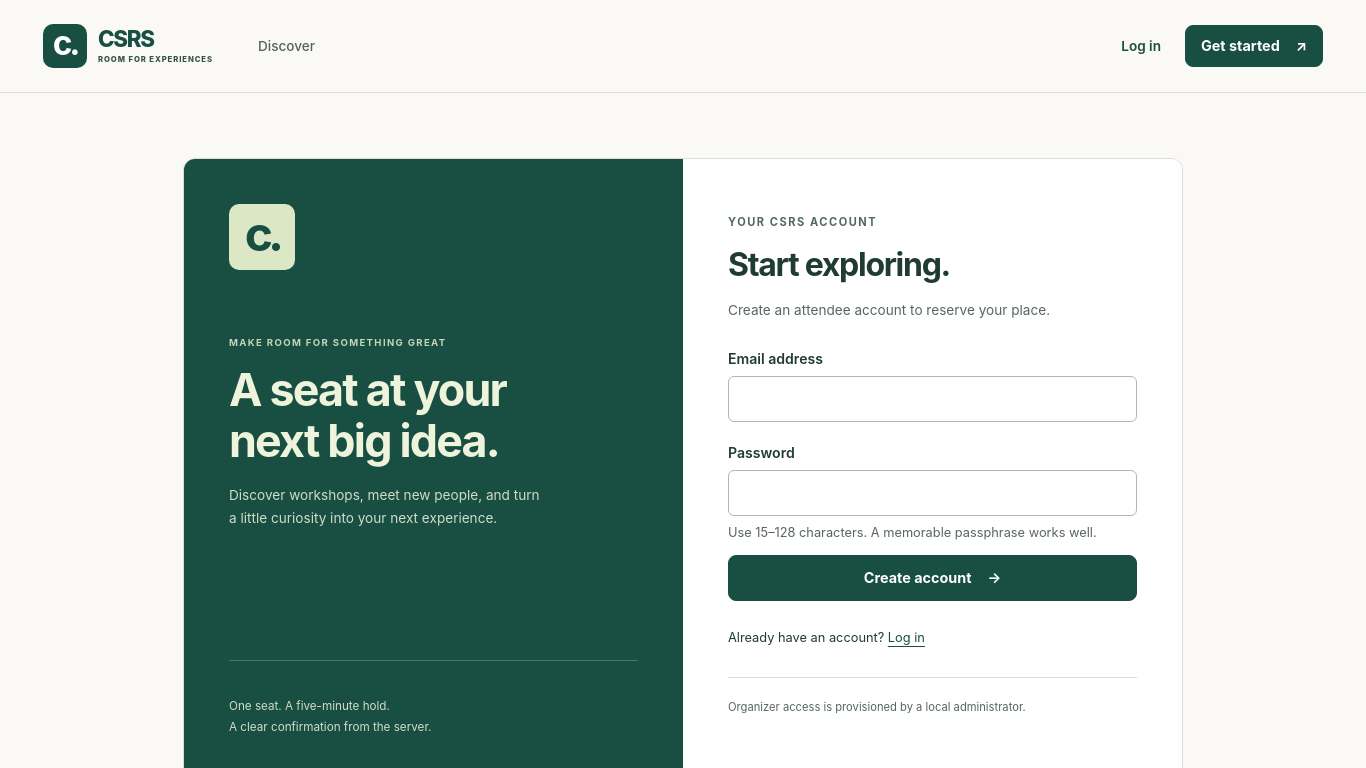
session and authentication interaction › registers without pretending the account is logged in
Type "attendee@example.com" into the field labelled "Email address".
click(932, 399); type("attendee@example.com")  # box [728,376,1137,422]
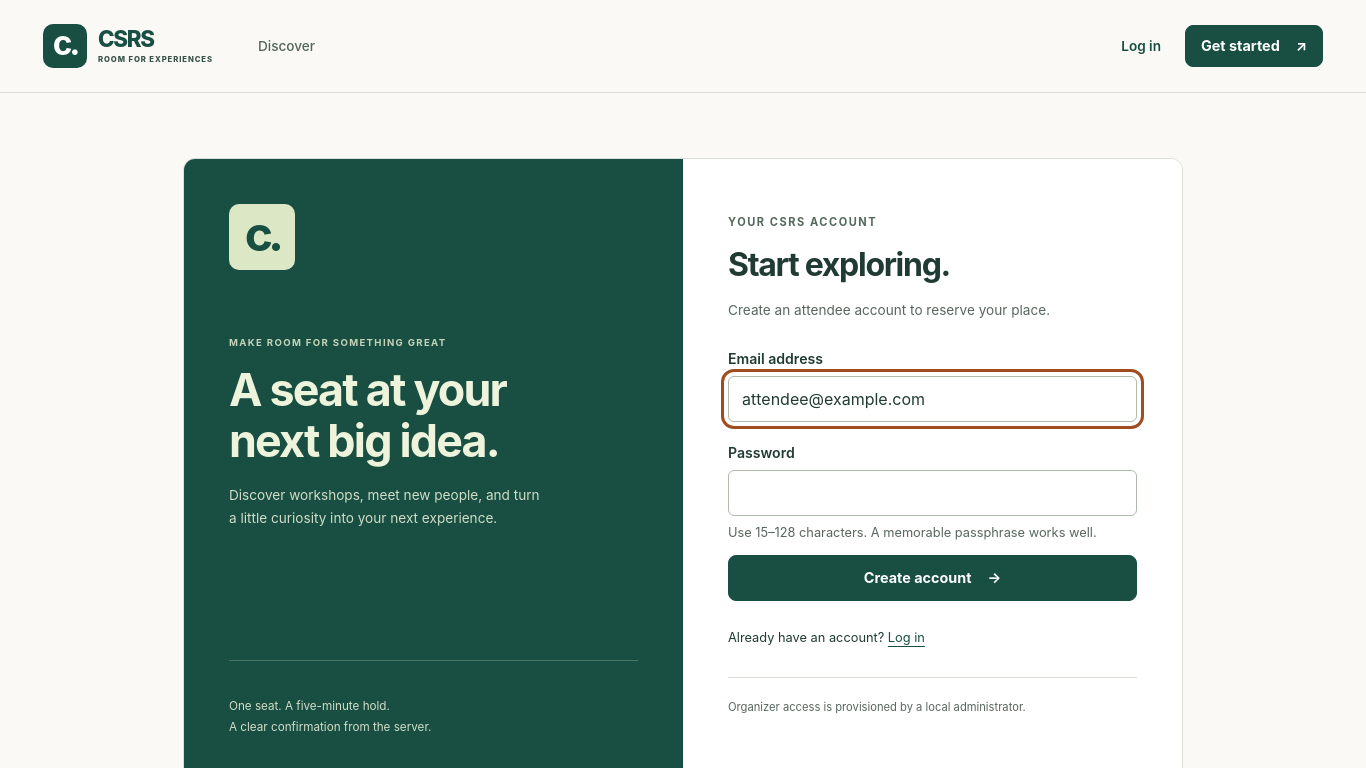
Type "a memorable password phrase" into the password field labelled "Password".
click(932, 493); type("a memorable password phrase")  # box [728,470,1137,516]
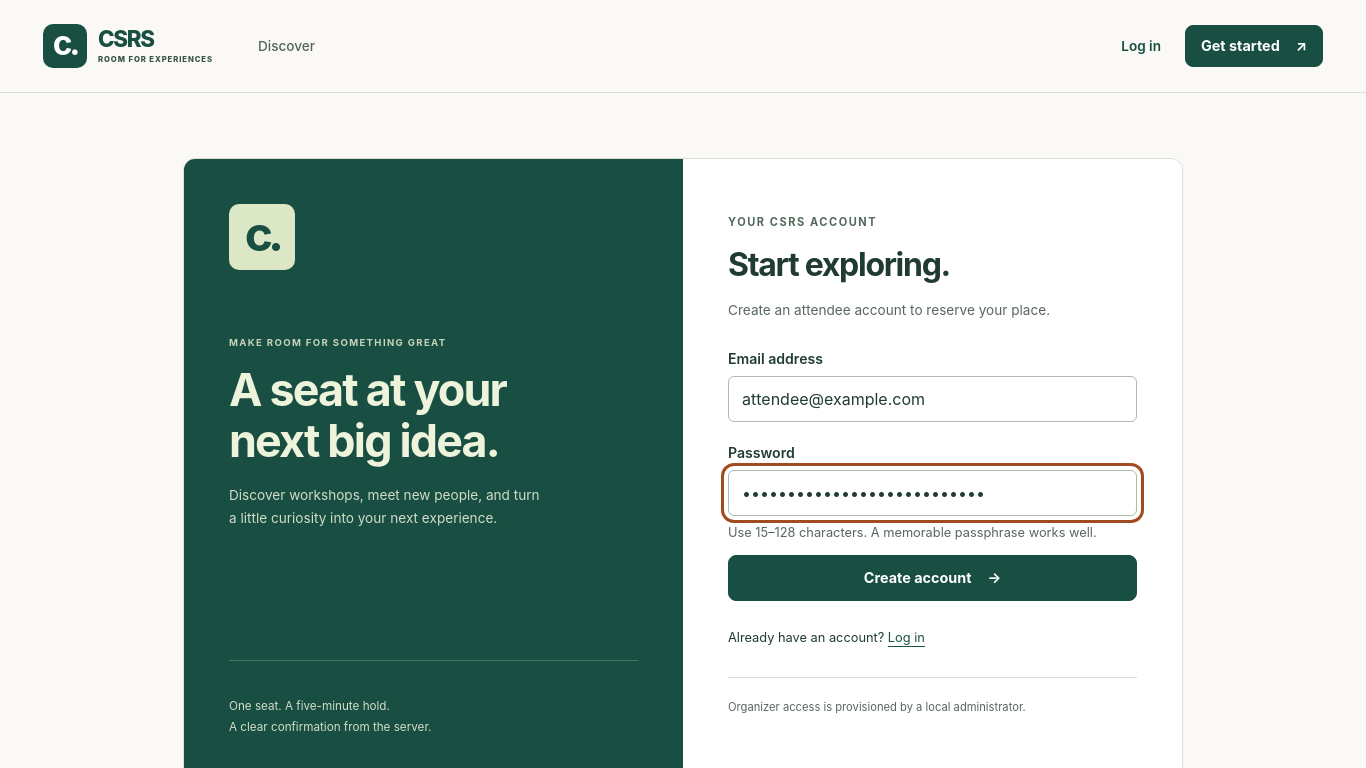
Click the button "Create account →".
click(932, 578)  # box [728,555,1137,601]
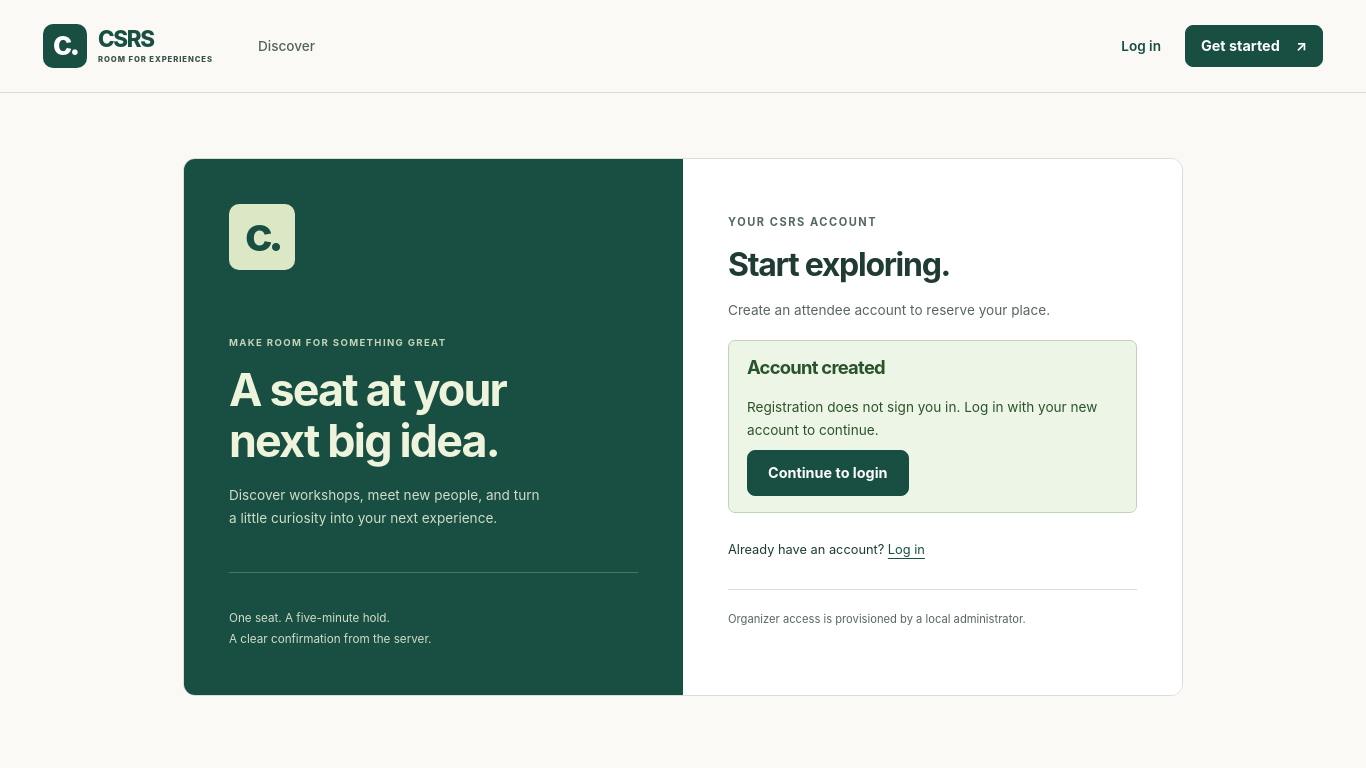
Now the heading "Account created" is shown, box [747,356,885,378]
